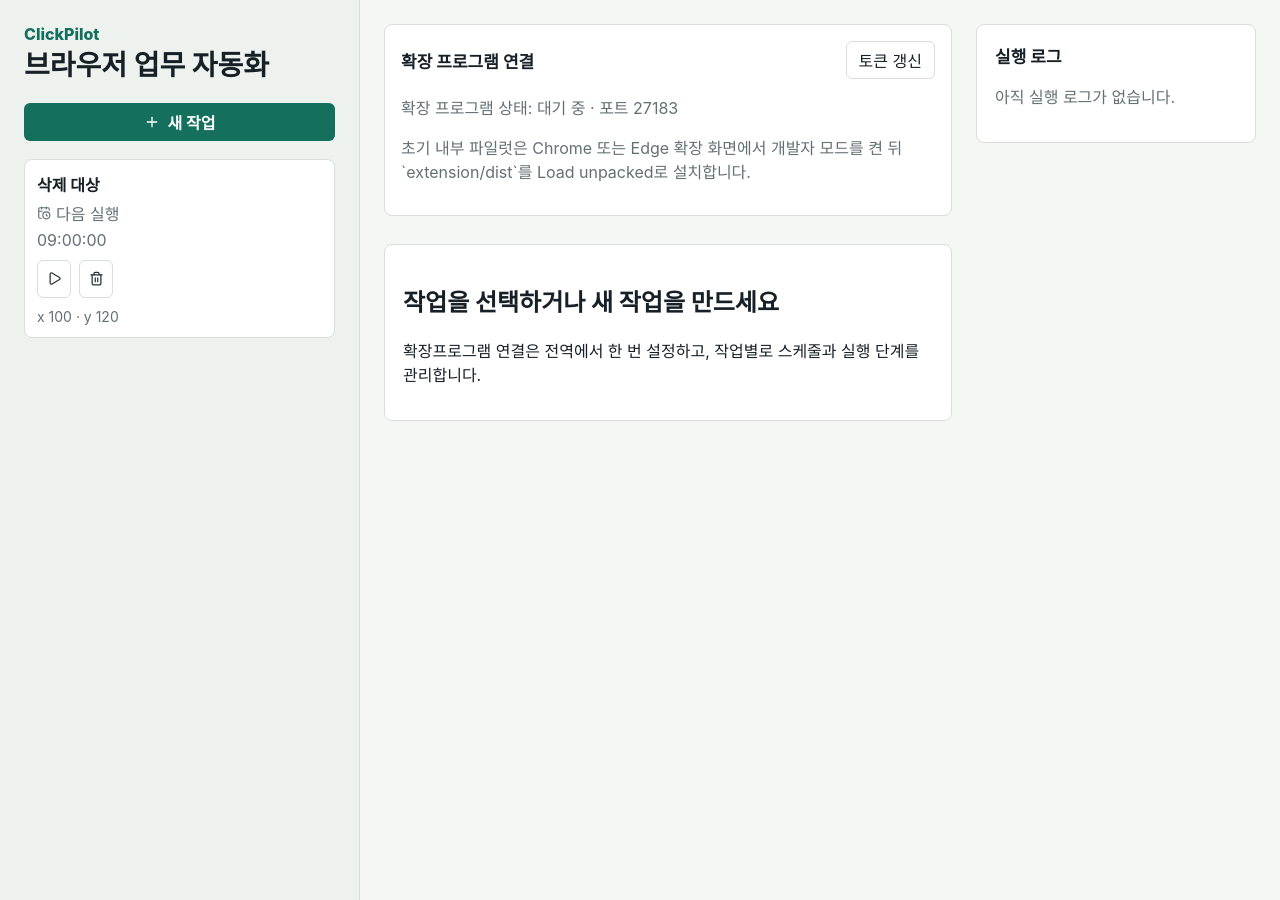
it: ClickPilot task workflow › removes an existing saved task
The width and height of the screenshot is (1280, 900).
Click the button named "작업 삭제 삭제 대상": (96, 279) [79,260,113,298]
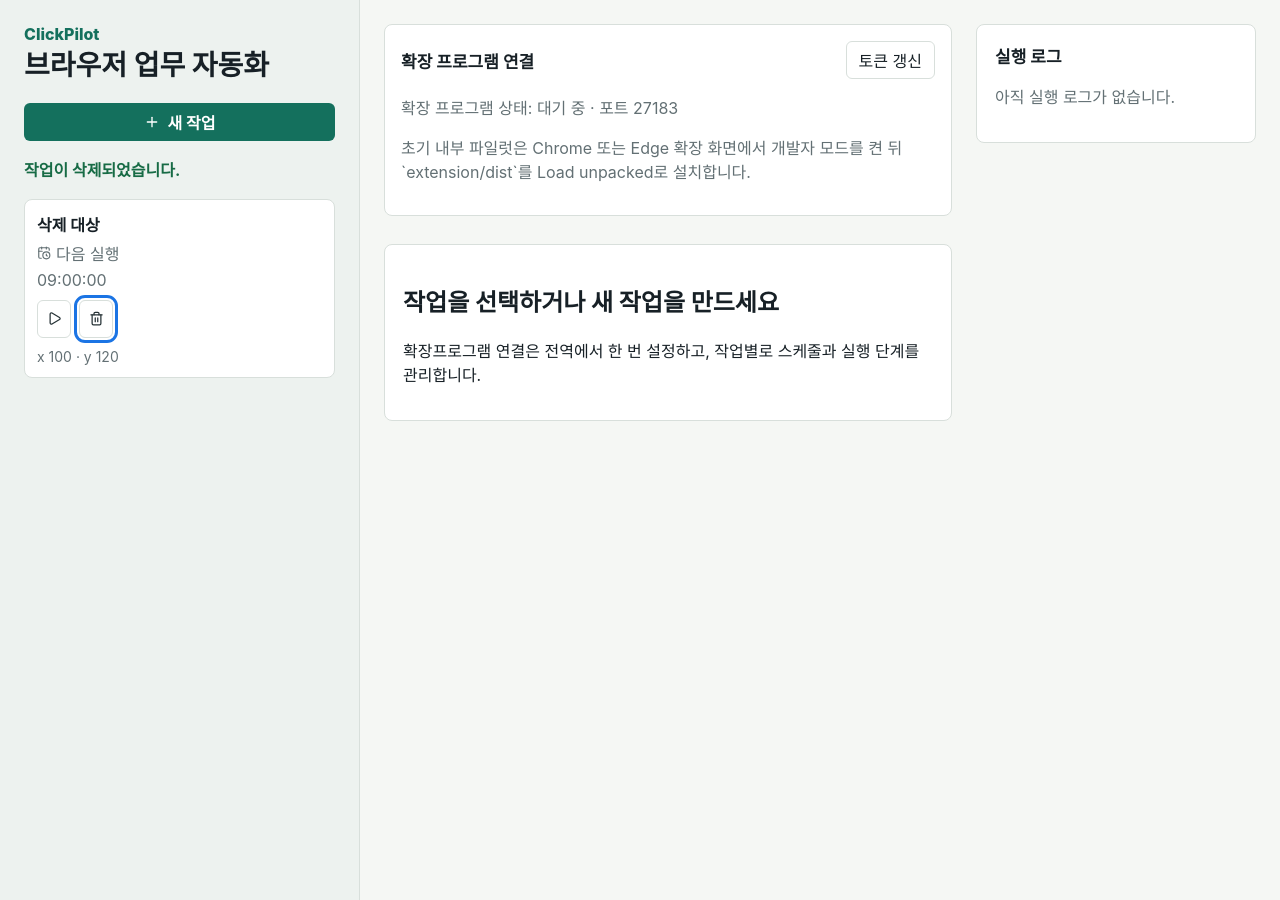
Expected: the text "작업이 삭제되었습니다." is shown, [24,160,180,180]
